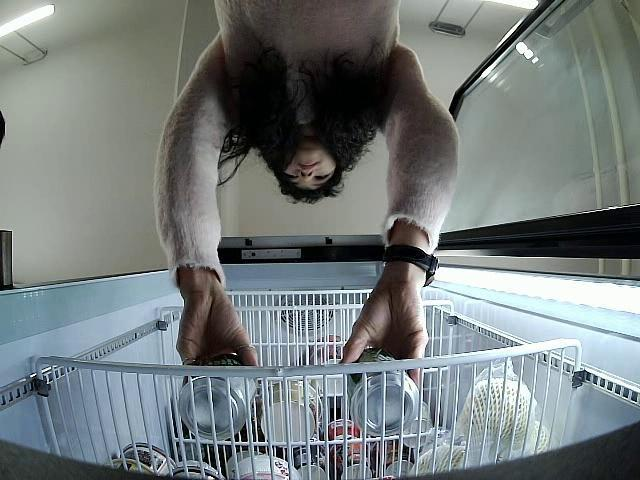12_chilsungCider: (346, 350, 421, 434), (180, 354, 252, 437)
